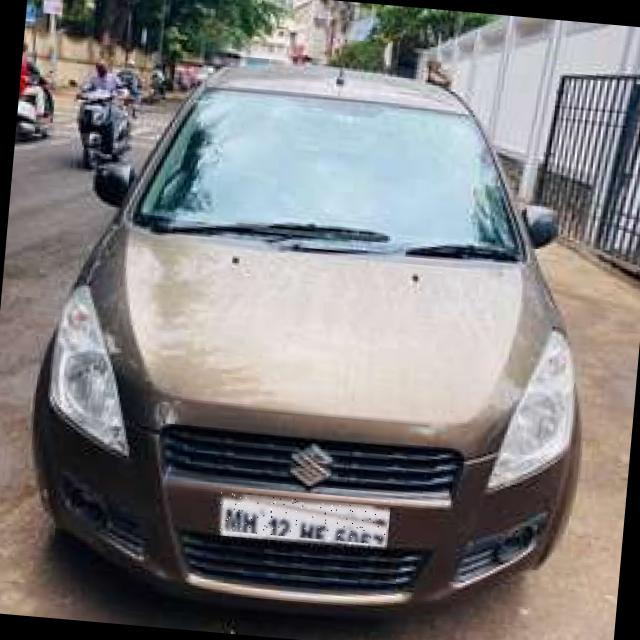Plate: (216, 493, 389, 546)
